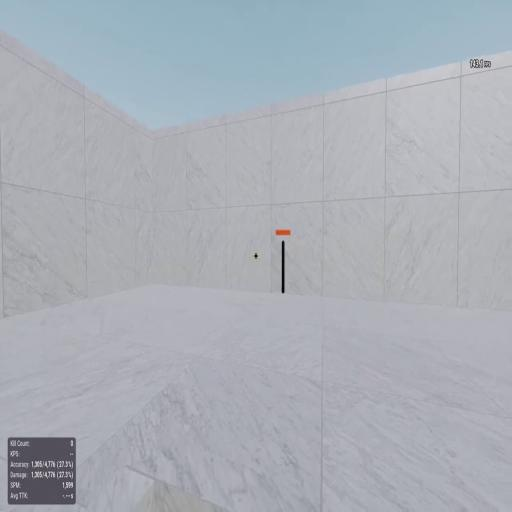Crosshair: (253, 252, 259, 260)
Target: (281, 241, 285, 293)
